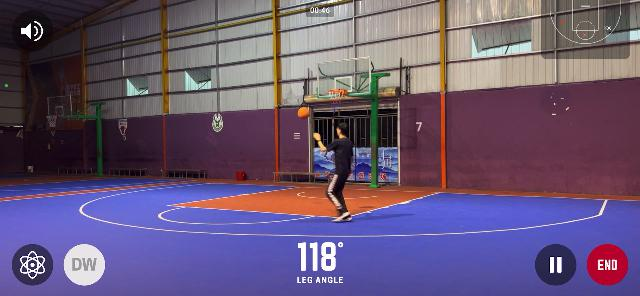ball: (297, 106, 309, 119)
basket: (328, 88, 347, 105)
